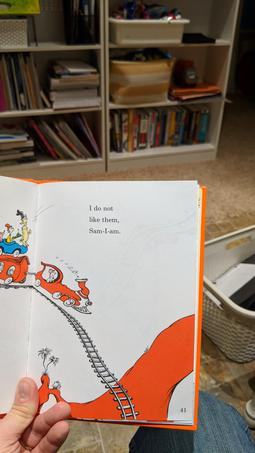text block: (74, 199, 128, 239)
